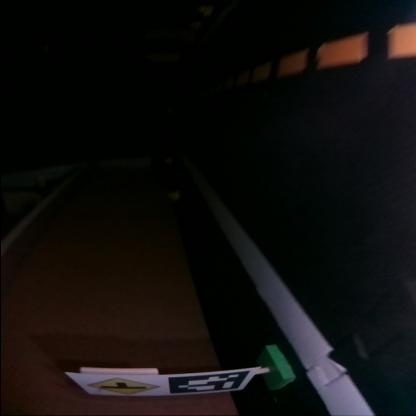Duckie: (166, 192, 178, 200)
Intersection sign: (82, 372, 154, 396)
QR code: (162, 370, 252, 392)
